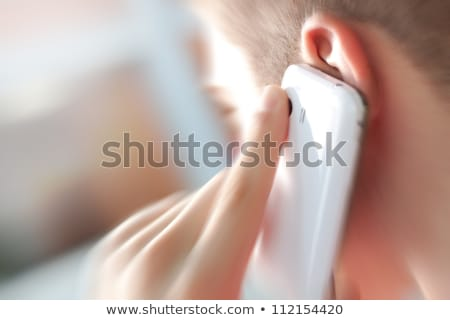phone: (238, 64, 370, 299)
